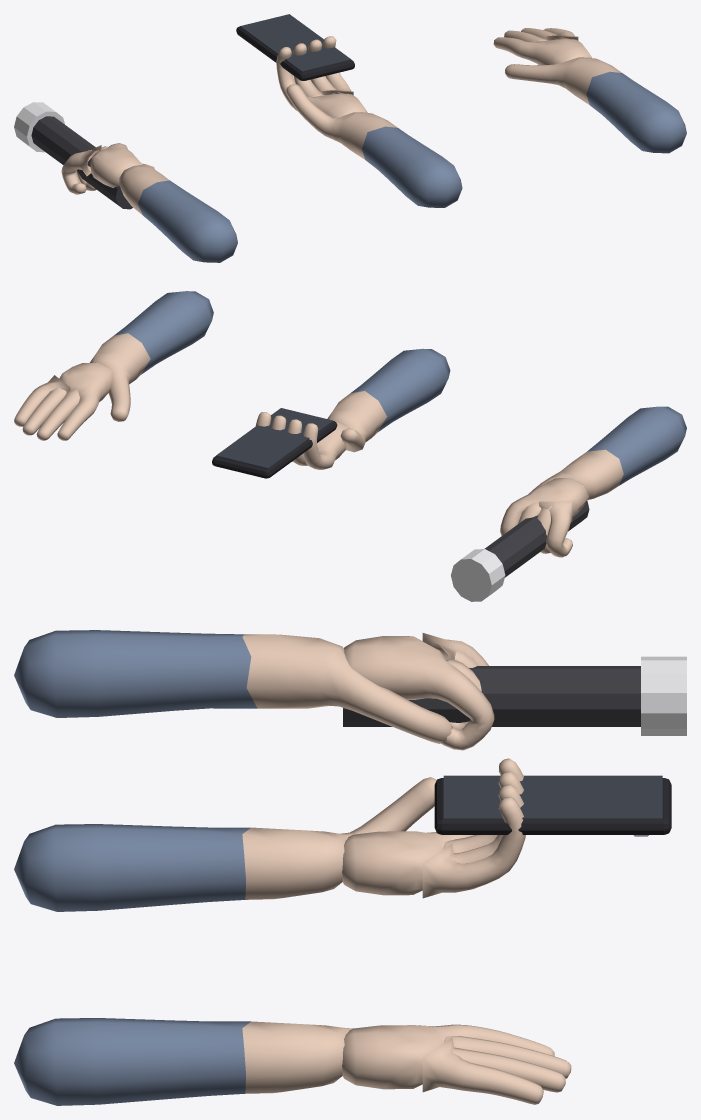
File: fp_hands.fbx
3 views of the same model, one above another, from view 1: azimuth 30°, elevation 25°; view 2: azimuth 150°, elevation 25°; view 3: azimuth 270°, elevation 25° (orthographic). The views are drawn at different scales.
Visible parts, largest first — view 1: PhoneHand, ReachHand, FlashHand, Flashlight, PhoneScreen, Phone; view 2: ReachHand, FlashHand, PhoneHand, Flashlight, PhoneScreen, Phone; view 3: ReachHand, PhoneHand, FlashHand, Flashlight, PhoneScreen, Phone.
Part boxes in pixels (x1,y1,x2,y2): PhoneHand: (276, 36, 462, 207); ReachHand: (493, 28, 686, 153); FlashHand: (61, 143, 237, 262); Flashlight: (14, 102, 132, 209); PhoneScreen: (240, 14, 351, 71); Phone: (236, 26, 354, 80); ReachHand: (14, 291, 213, 440); FlashHand: (500, 406, 686, 557); PhoneHand: (255, 348, 450, 469); Flashlight: (451, 500, 589, 601); PhoneScreen: (216, 408, 332, 468); Phone: (212, 421, 337, 478); ReachHand: (14, 1018, 571, 1105); PhoneHand: (14, 758, 525, 911); FlashHand: (14, 630, 494, 750); Flashlight: (343, 656, 686, 735); PhoneScreen: (443, 775, 662, 819); Phone: (434, 778, 671, 836).
Bounding box in the file's own units: 0.6779 × 0.106 × 0.44.
